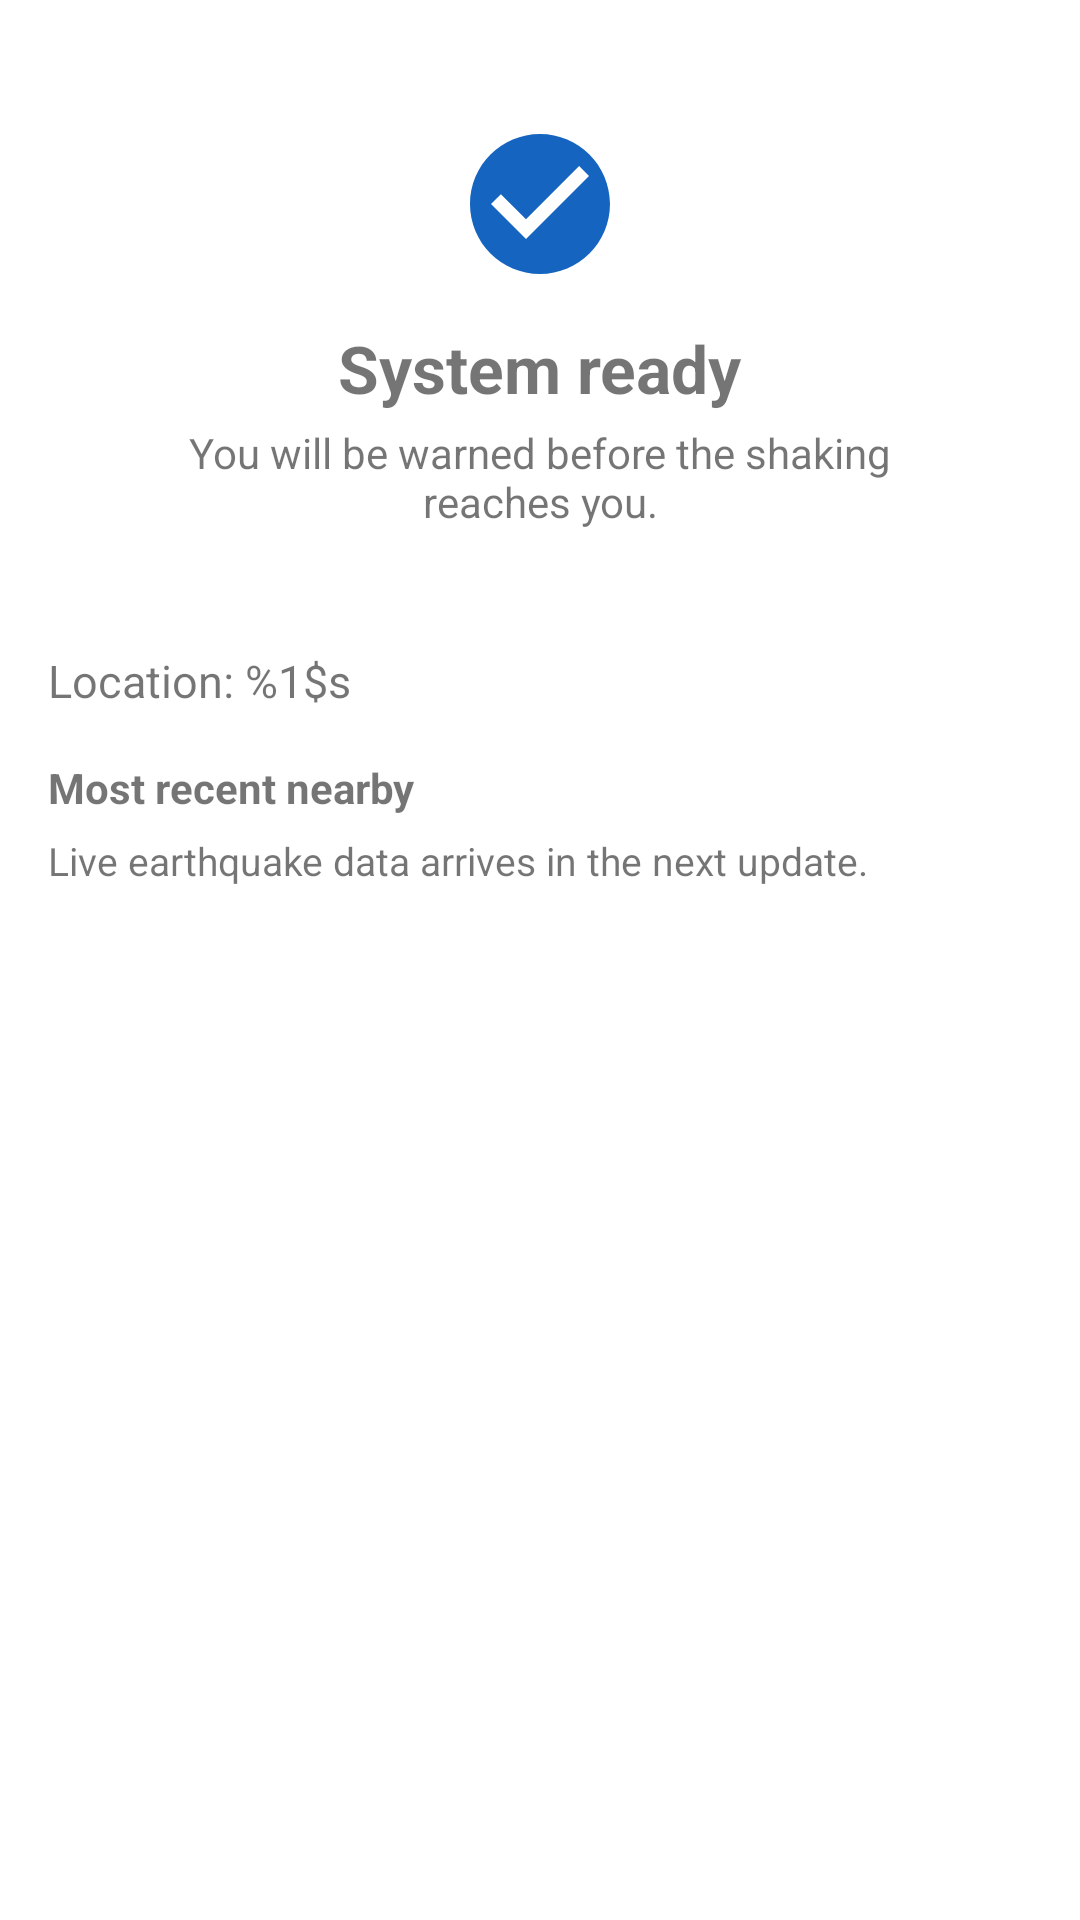

Icons on this 1080px×1920px Android screen, each with the point to tap as point (x, y):
status ready: point (540, 204)
